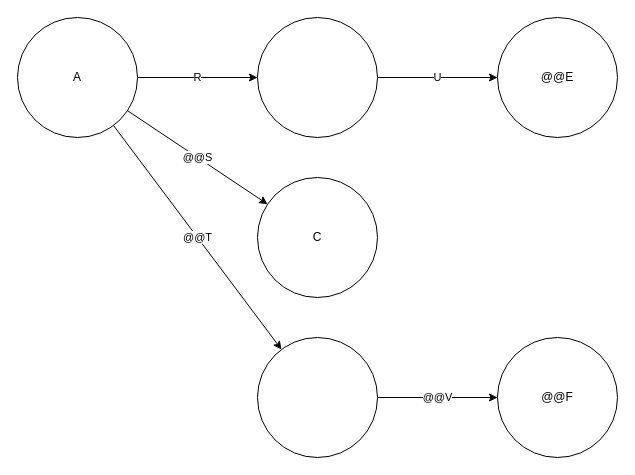
This 635x475 diagram has some shape labels left out. The centre of each missing label's shape, as x and y in pixels:
"@@B" goes at [317,77].
"@@D" goes at [317,397].
